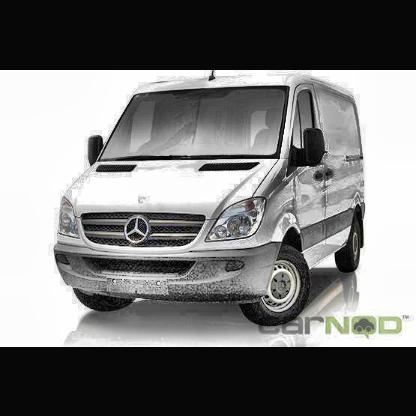Mercedes-Benz Sprinter Van 2012: (55, 70, 365, 326)
